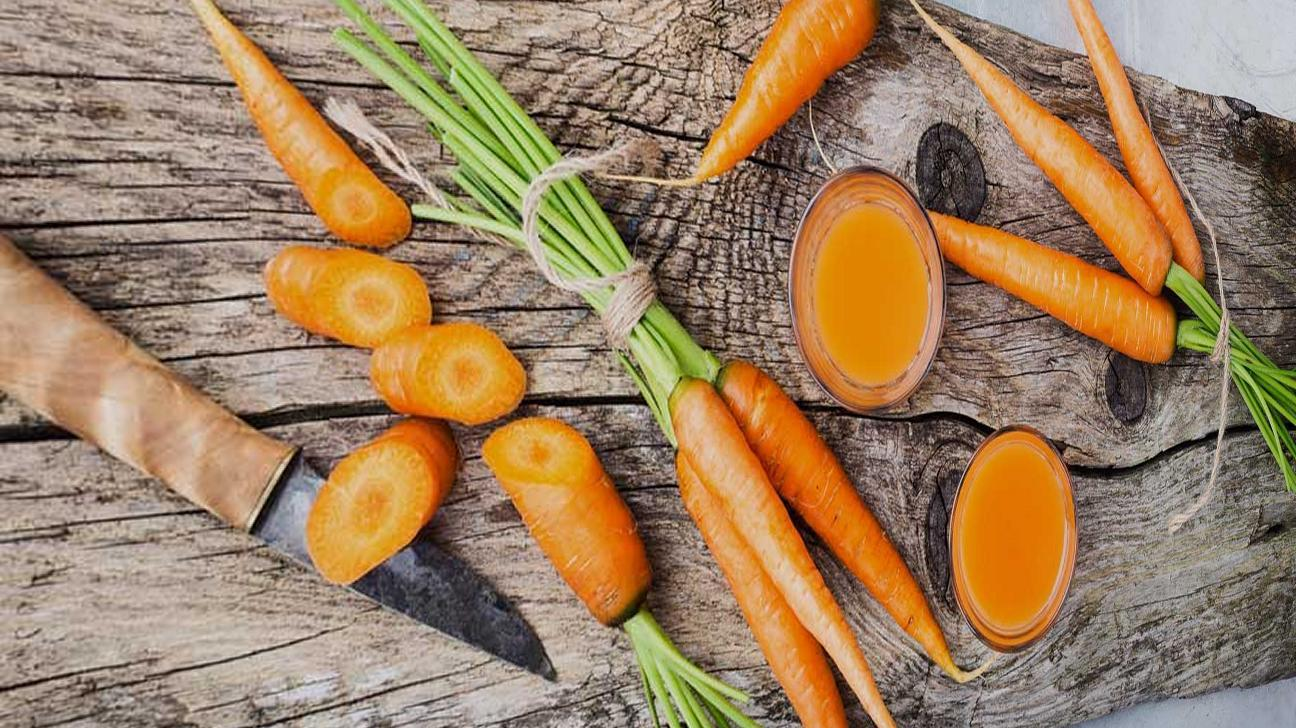carrot: (932, 4, 1289, 439), (631, 330, 964, 728), (485, 406, 744, 728), (609, 0, 977, 181)
